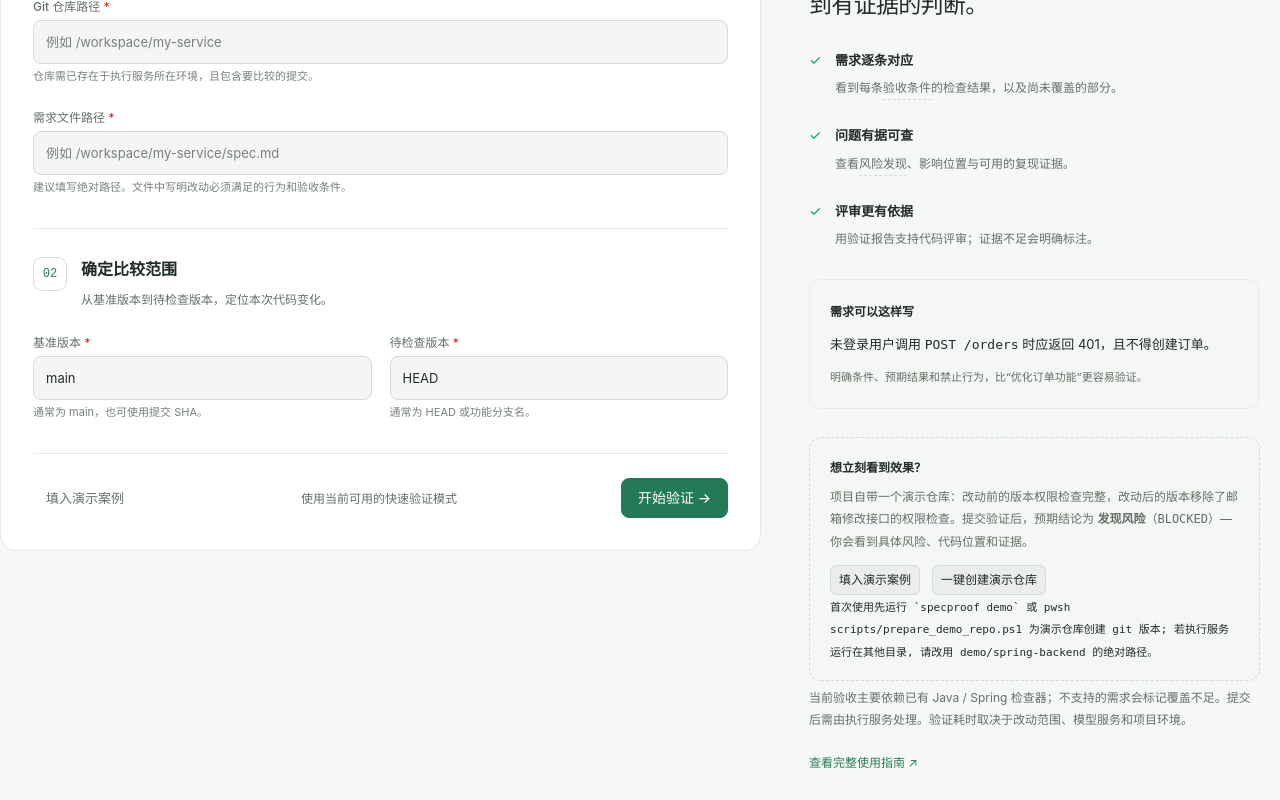
Test: NewVerification demo-repo creation (#241b) › still fills the form when the refs already existed (idempotent backend)
(page scrolled)
Click the button "一键创建演示仓库" at (989, 580), box [932,565,1046,595]
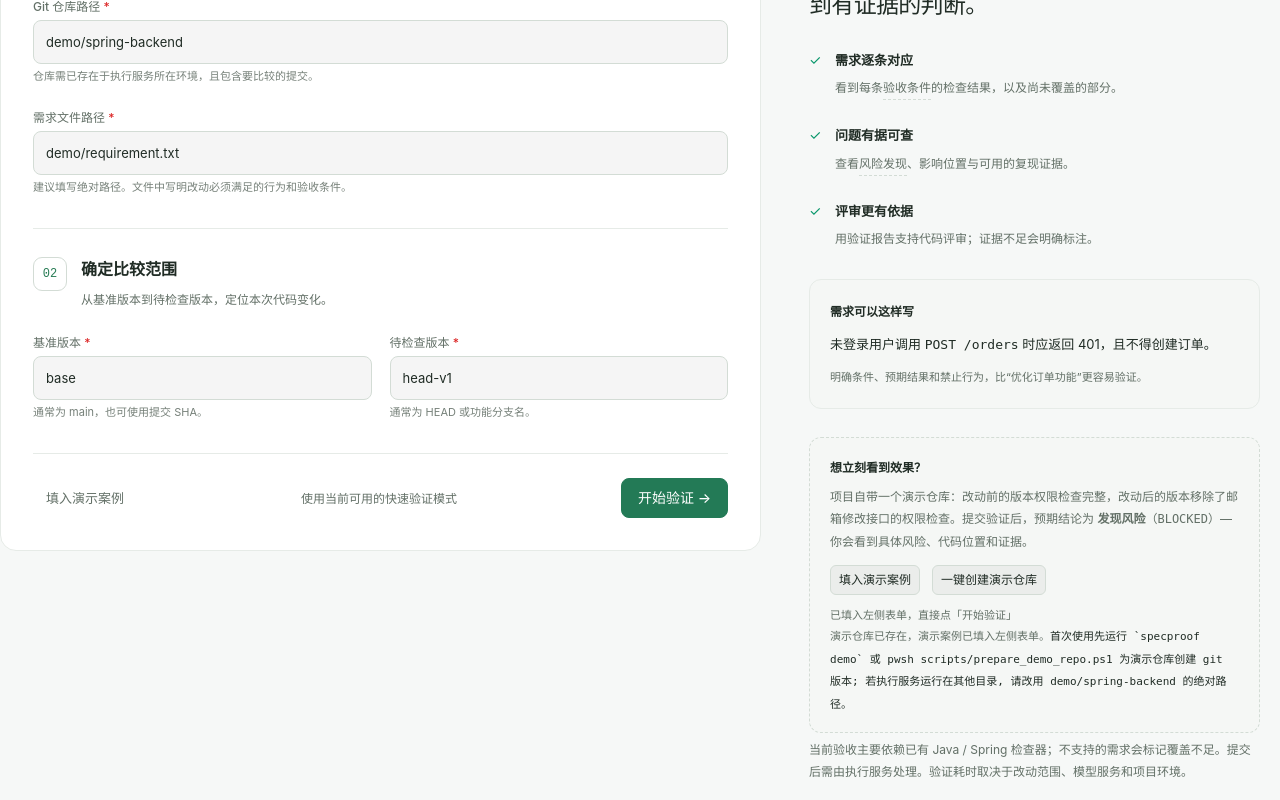
Check: the field labelled "Git 仓库路径 *" holds "demo/spring-backend", box [33,20,728,64]
Check: the text "演示仓库已存在，演示案例已填入左侧表单。" is shown, box [830,629,1050,643]
